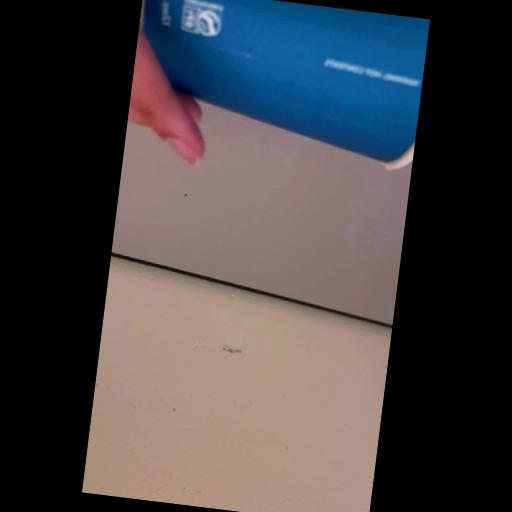lp_paper_cup: (128, 0, 429, 174)
